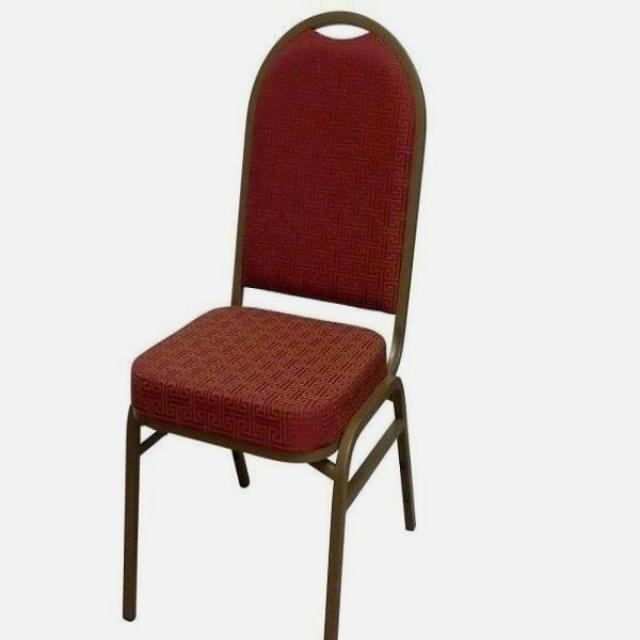Chair: (118, 11, 424, 640)
